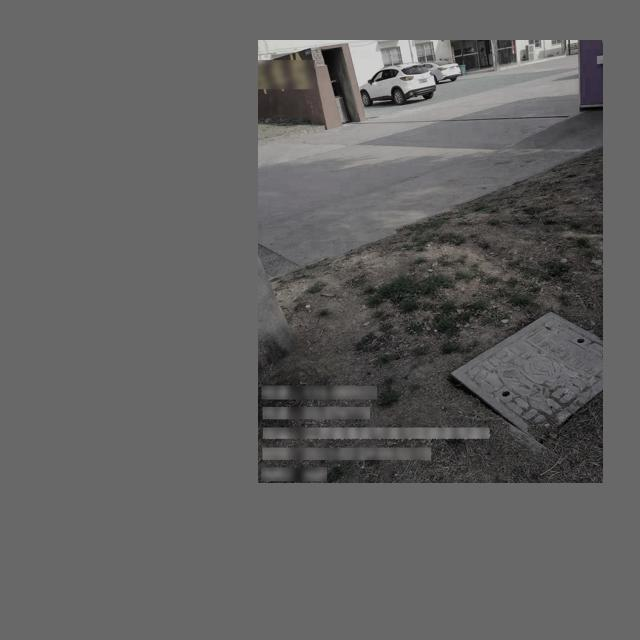uncovered: (447, 311, 603, 441)
